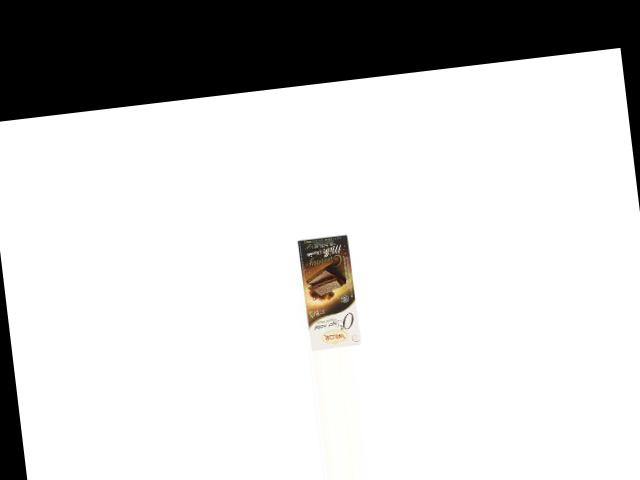chocolate: (295, 233, 364, 351)
